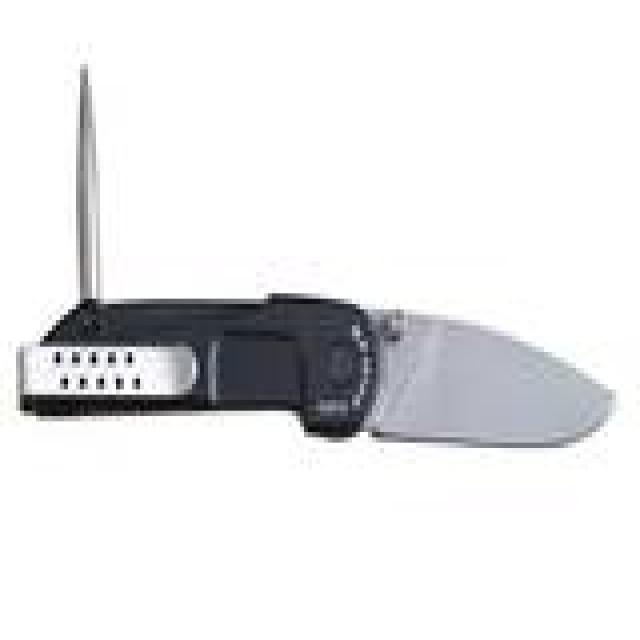Knife: (16, 272, 628, 468)
